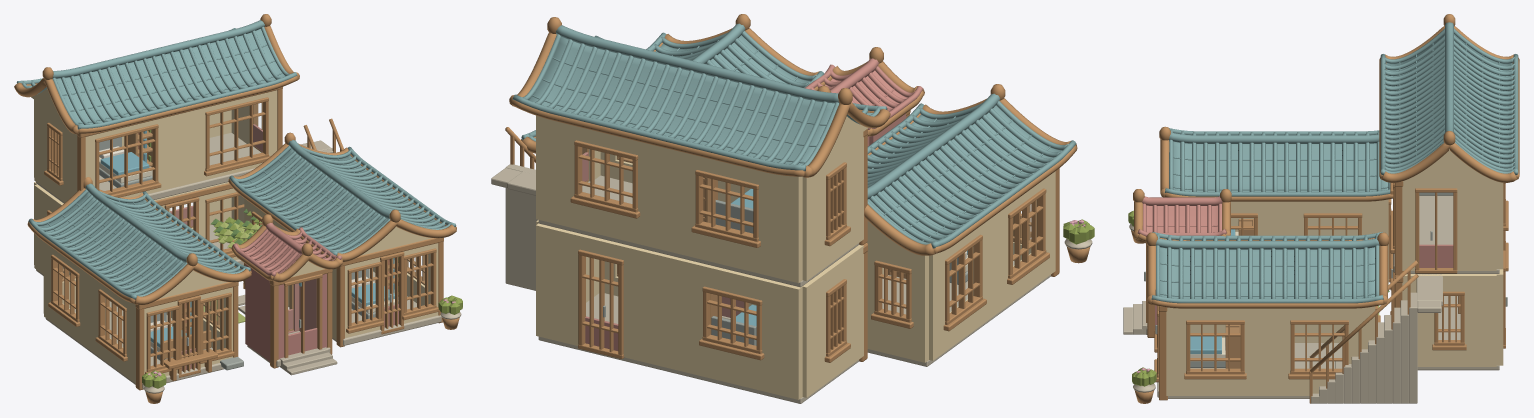
3 renders of one model, left to right at view 1: azimuth 30°, elevation 25°; view 2: azimuth 150°, elevation 25°; view 3: azimuth 270°, elevation 25°, orthographic. The views are drawn at different scales.
Visible parts, largest first — view 1: SM_03_02_曲面屋顶, SM_03_01_建筑墙体, SM_03_04_门窗楼梯, SM_03_03_木构回廊, SM_03_06_景观设施, SM_03_05_景观植物; view 2: SM_03_01_建筑墙体, SM_03_02_曲面屋顶, SM_03_04_门窗楼梯, SM_03_06_景观设施, SM_03_03_木构回廊, SM_03_05_景观植物; view 3: SM_03_02_曲面屋顶, SM_03_01_建筑墙体, SM_03_04_门窗楼梯, SM_03_03_木构回廊, SM_03_06_景观设施, SM_03_05_景观植物.
Boxes of the visible parts, x1,y1,x2,y2 form: SM_03_02_曲面屋顶: (14,14,456,304); SM_03_01_建筑墙体: (31,88,441,388); SM_03_04_门窗楼梯: (44,97,439,377); SM_03_03_木构回廊: (77,87,443,390); SM_03_06_景观设施: (99,129,398,381); SM_03_05_景观植物: (142,209,462,403); SM_03_01_建筑墙体: (536,113,1055,403); SM_03_02_曲面屋顶: (509,14,1077,255); SM_03_04_门窗楼梯: (491,127,1049,362); SM_03_06_景观设施: (703,177,1031,345); SM_03_03_木构回廊: (859,110,1059,361); SM_03_05_景观植物: (1063,219,1094,263); SM_03_02_曲面屋顶: (1133,14,1519,308); SM_03_01_建筑墙体: (1146,148,1503,398); SM_03_04_门窗楼梯: (1123,182,1508,403); SM_03_03_木构回廊: (1147,181,1403,400); SM_03_06_景观设施: (1190,192,1460,368); SM_03_05_景观植物: (1128,210,1389,403).
Bounding box in the file's own units: 10.72 × 7.14 × 10.46.
